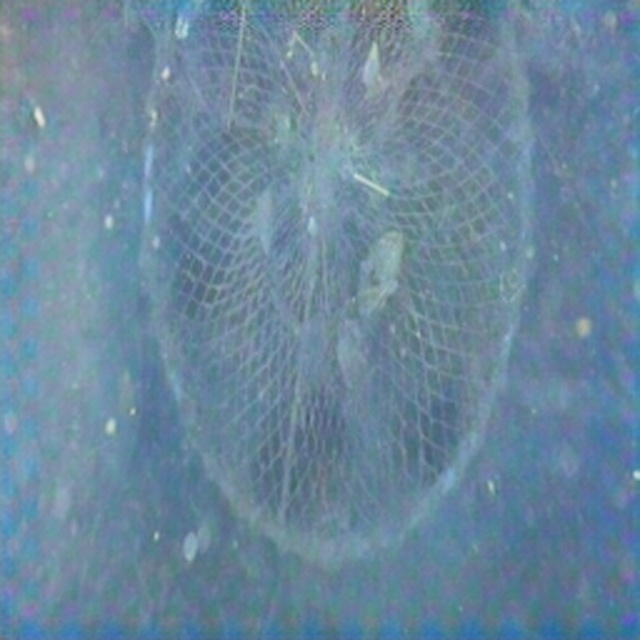mine: (138, 0, 531, 565)
